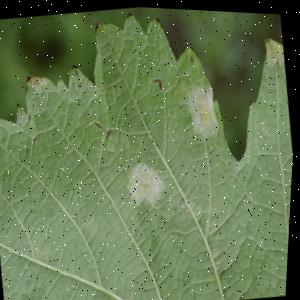Folha: (0, 0, 300, 300)
Fungo: (182, 77, 224, 140), (124, 155, 172, 210), (24, 72, 46, 96), (24, 73, 36, 95), (153, 75, 166, 89), (96, 118, 107, 131), (208, 143, 220, 153), (107, 127, 114, 138), (191, 54, 194, 60)
